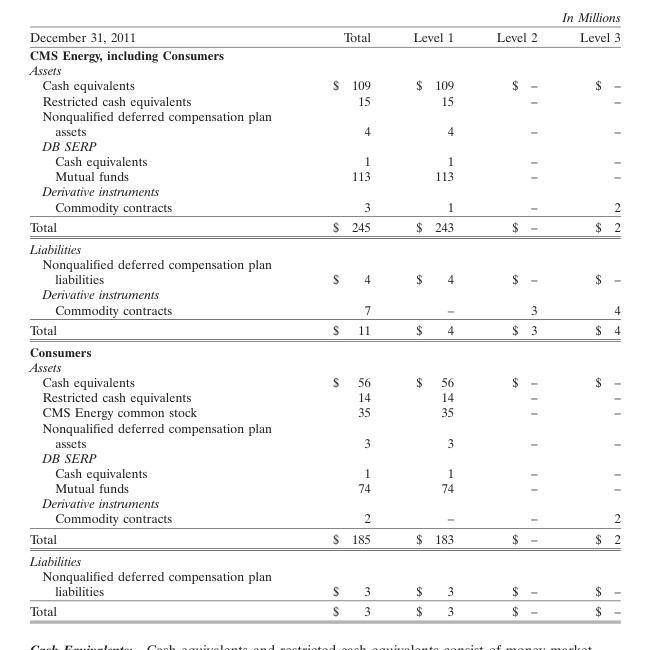table: (28, 29, 619, 618)
table column: (28, 29, 301, 618), (301, 29, 391, 618), (391, 29, 474, 618), (474, 29, 557, 618), (557, 29, 619, 618)
table column header: (28, 29, 619, 45)
table projected row header: (28, 237, 619, 255), (28, 340, 619, 358), (28, 549, 619, 567), (28, 45, 619, 62), (28, 62, 619, 77), (28, 137, 619, 152), (28, 183, 619, 198), (28, 286, 619, 301), (28, 358, 619, 373), (28, 449, 619, 464), (28, 495, 619, 510)
table row: (28, 567, 619, 600), (28, 255, 619, 286), (28, 107, 619, 137), (28, 419, 619, 449), (28, 216, 619, 237), (28, 319, 619, 340), (28, 528, 619, 549), (28, 198, 619, 216), (28, 237, 619, 255), (28, 301, 619, 319), (28, 340, 619, 358), (28, 510, 619, 528), (28, 549, 619, 567), (28, 600, 619, 618), (28, 45, 619, 62), (28, 29, 619, 45), (28, 152, 619, 168), (28, 373, 619, 389), (28, 464, 619, 480), (28, 62, 619, 77), (28, 77, 619, 92), (28, 92, 619, 107), (28, 137, 619, 152), (28, 168, 619, 183), (28, 183, 619, 198), (28, 286, 619, 301), (28, 358, 619, 373), (28, 389, 619, 404), (28, 404, 619, 419), (28, 449, 619, 464), (28, 480, 619, 495), (28, 495, 619, 510)
